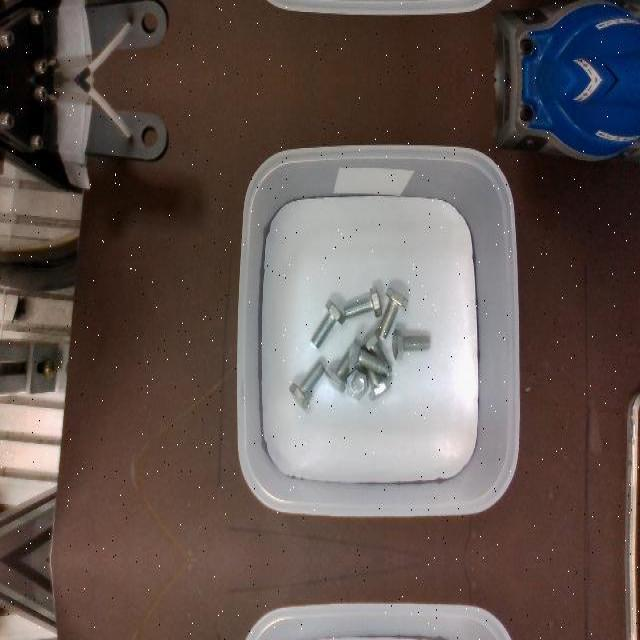screw: (310, 299, 345, 349), (289, 362, 325, 410), (347, 337, 387, 375), (379, 288, 408, 340), (343, 286, 381, 320), (392, 328, 431, 360), (347, 369, 368, 399)
